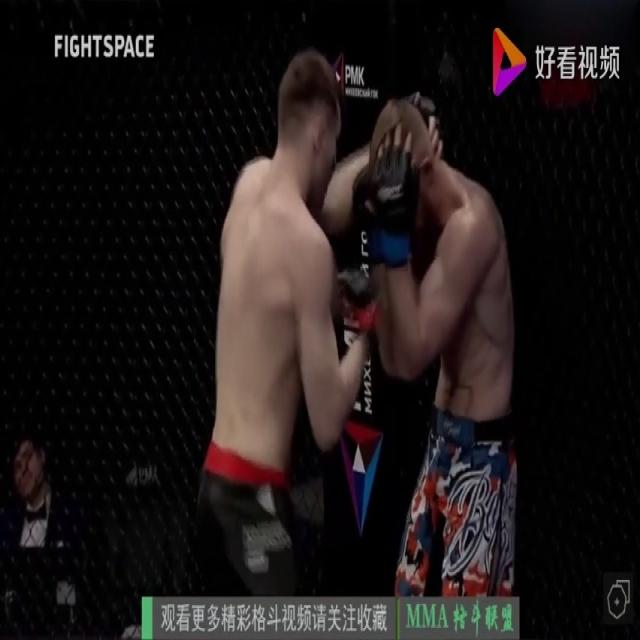fight: (177, 33, 537, 623)
